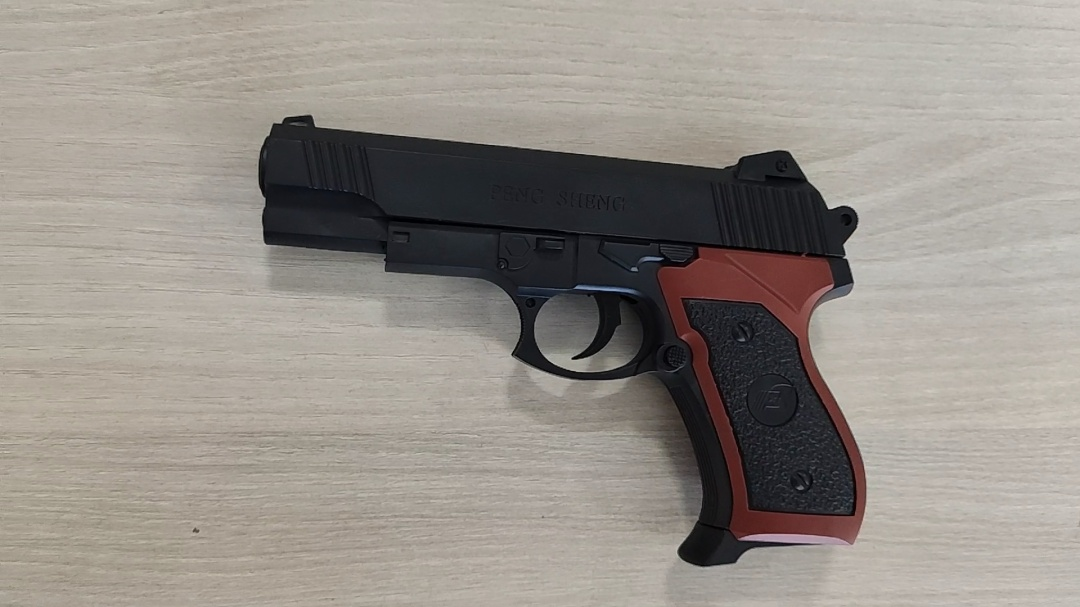gun: (361, 255, 415, 361)
